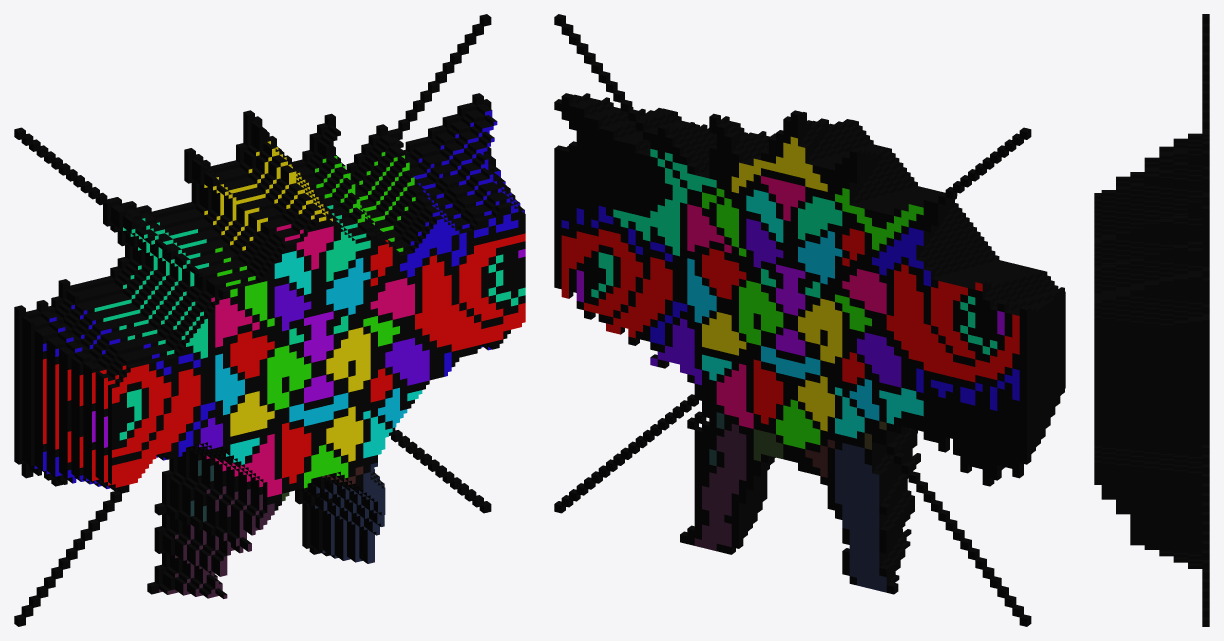
File: dreamlingP5.obj
3 renders of one model, left to right at view 1: azimuth 30°, elevation 25°; view 2: azimuth 150°, elevation 25°; view 3: azimuth 270°, elevation 25°, orthographic. The views are drawn at different scales.
Size of the model in its own units: 128 by 128 by 32.
